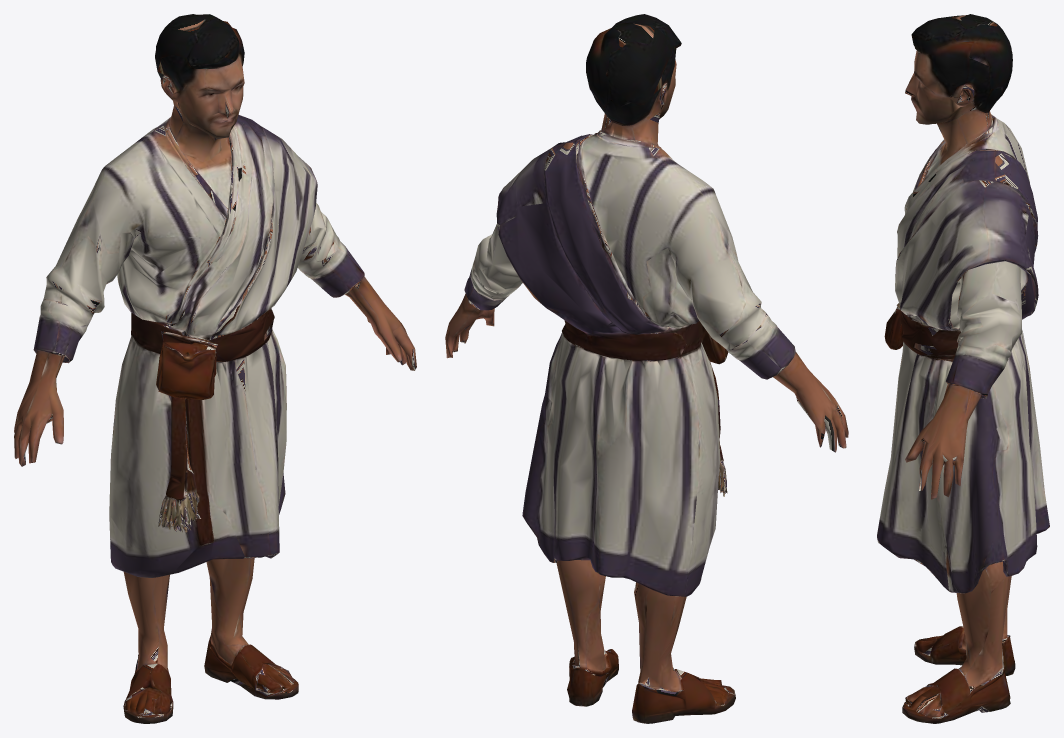
Rendered from ecuestre.glb.
3 views of the same model, side by side, from view 1: azimuth 30°, elevation 25°; view 2: azimuth 150°, elevation 25°; view 3: azimuth 270°, elevation 25° (orthographic).
Parts seen in each view (by area): view 1: ecuestre; view 2: ecuestre; view 3: ecuestre.
Boxes of the visible parts, x1,y1,x2,y2 form: ecuestre: (14, 14, 416, 723); ecuestre: (445, 14, 848, 723); ecuestre: (877, 14, 1049, 723).
Size of the model in its own units: 1.1 by 1.8 by 0.4217.
1 material, 1 textured.
